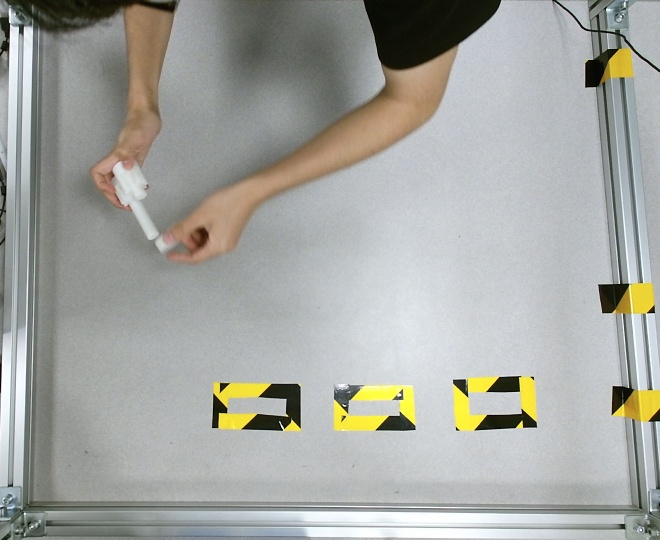stage_3: (112, 157, 177, 251)
